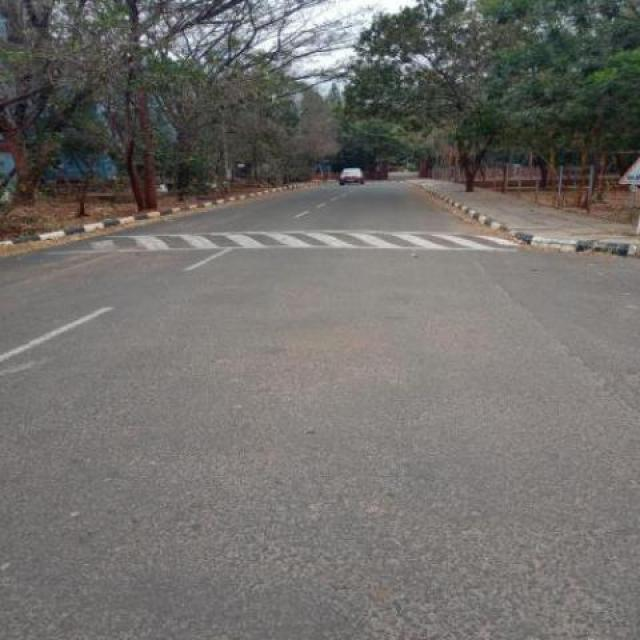Speed Bump: (29, 230, 528, 253)
